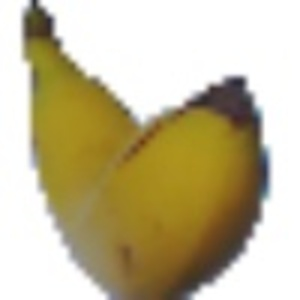banana: (16, 3, 281, 295)
